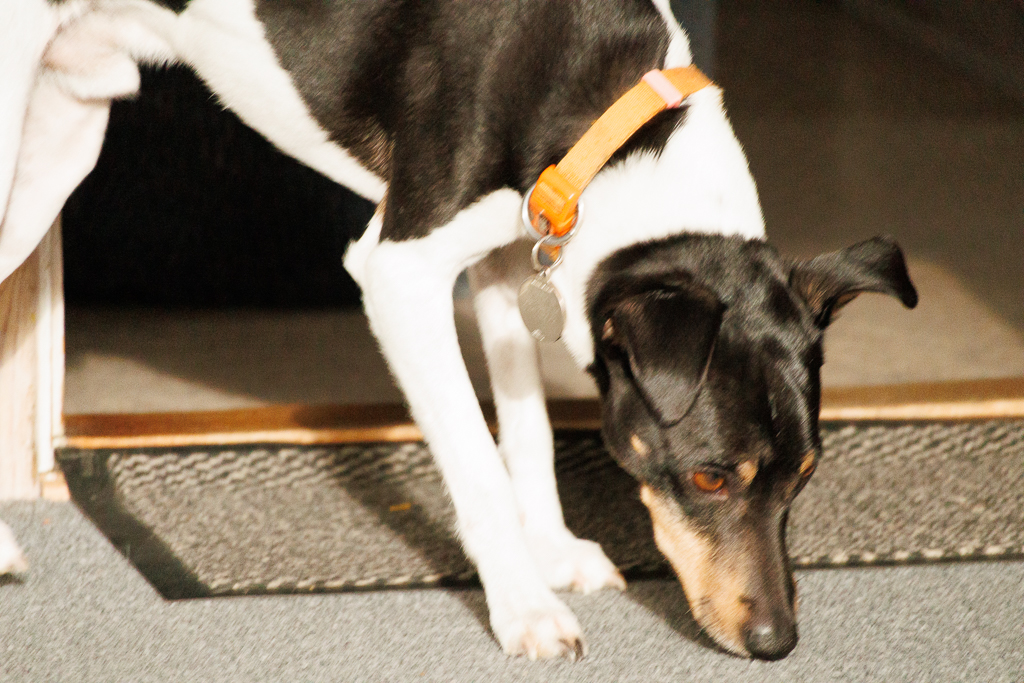Dog: (0, 0, 923, 667)
